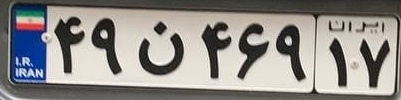character: (132, 15, 192, 81), (87, 11, 131, 82), (194, 17, 237, 85), (271, 16, 312, 87), (232, 21, 273, 87), (49, 9, 87, 79), (356, 34, 395, 93), (320, 32, 356, 93)
